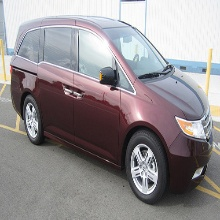no damage: (10, 16, 214, 202)
